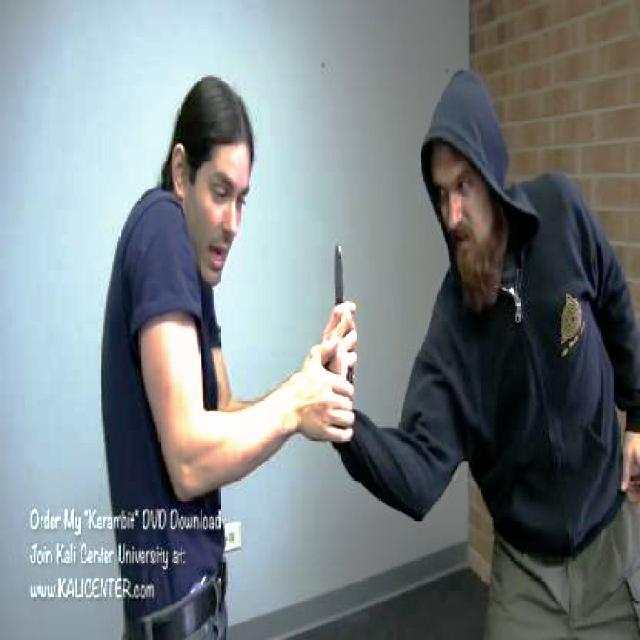Knife: (325, 237, 357, 300)
